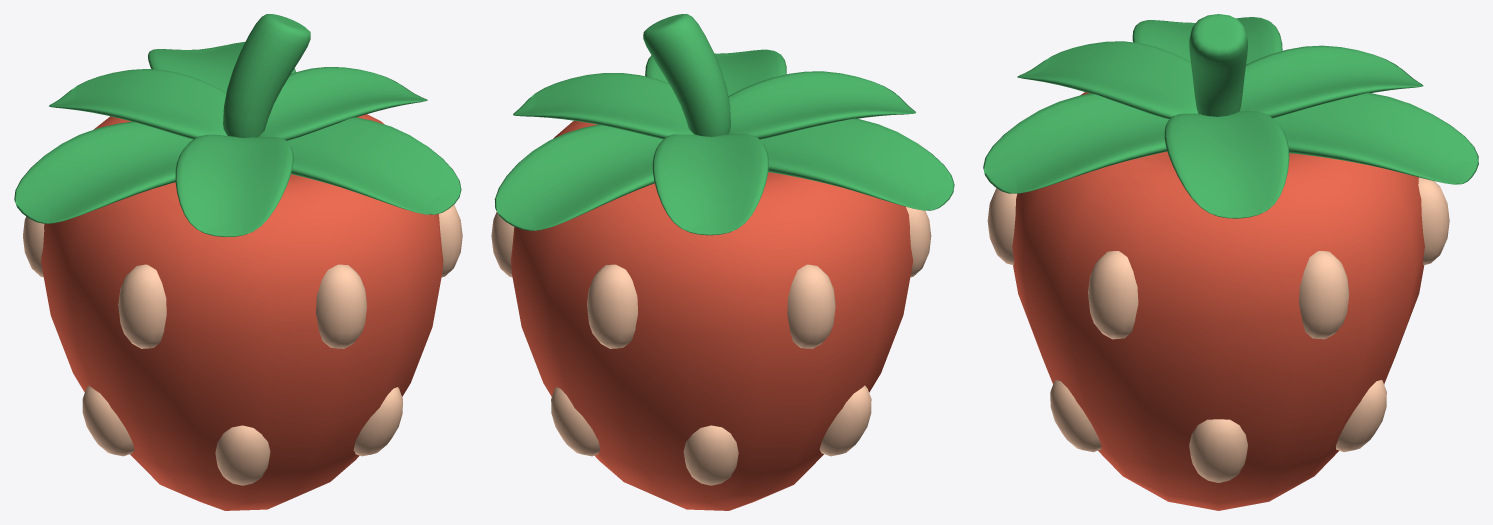
File: strawberry.glb
3 views of the same model, side by side, from view 1: azimuth 30°, elevation 25°; view 2: azimuth 150°, elevation 25°; view 3: azimuth 270°, elevation 25° (orthographic). The views are drawn at different scales.
Visible parts, largest first — view 1: strawberry; view 2: strawberry; view 3: strawberry.
Boxes of the visible parts, box(x1,y1,x2,y2) form: strawberry: box(14, 14, 462, 510); strawberry: box(491, 14, 954, 510); strawberry: box(983, 14, 1478, 510).
Bounding box in the file's own units: 0.4765 × 0.5314 × 0.4789.
